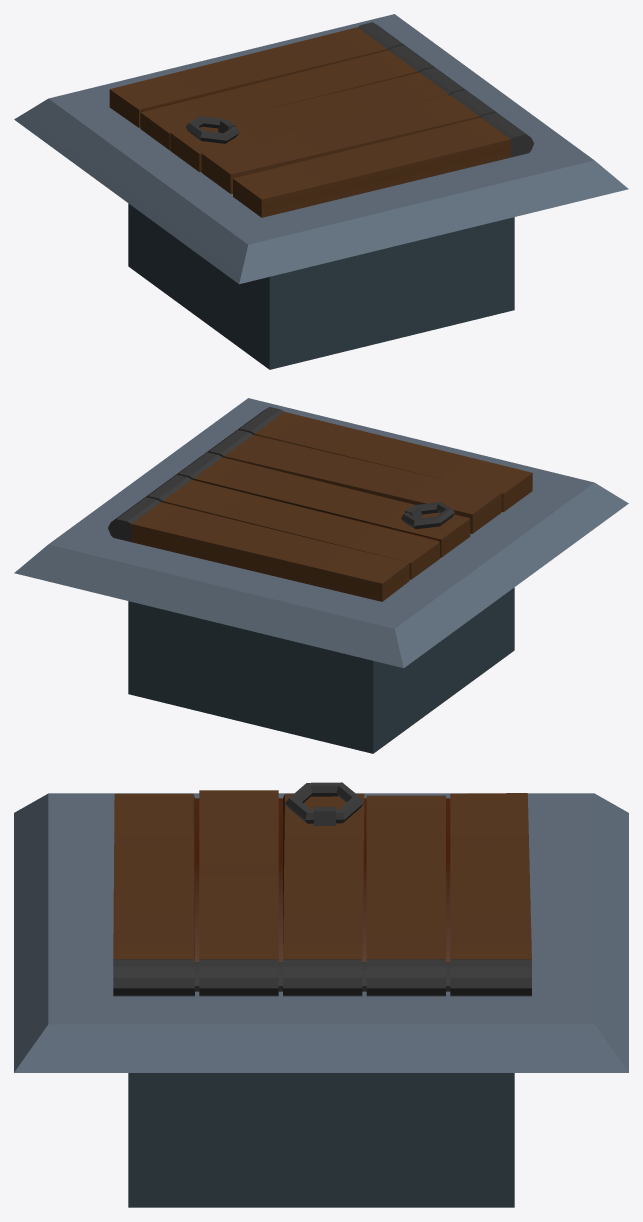
The model's file is Floor_tile_trapdoor_A.fbx.
The picture shows the model from 3 angles, top to bottom: view 1: azimuth 30°, elevation 25°; view 2: azimuth 150°, elevation 25°; view 3: azimuth 270°, elevation 25°; orthographic projection. The views are drawn at different scales.
Visible parts, largest first — view 1: Floor_tile_trapdoor_A, Floor_tile_trapdoor_door; view 2: Floor_tile_trapdoor_A, Floor_tile_trapdoor_door; view 3: Floor_tile_trapdoor_A, Floor_tile_trapdoor_door.
Boxes of the visible parts, x1=… form: Floor_tile_trapdoor_A: x1=14, y1=14, x2=628, y2=369; Floor_tile_trapdoor_door: x1=109, y1=22, x2=534, y2=217; Floor_tile_trapdoor_A: x1=14, y1=398, x2=628, y2=753; Floor_tile_trapdoor_door: x1=108, y1=407, x2=532, y2=601; Floor_tile_trapdoor_A: x1=14, y1=793, x2=628, y2=1207; Floor_tile_trapdoor_door: x1=113, y1=782, x2=531, y2=996.
Size of the model in its own units: 100 by 46.66 by 100.
